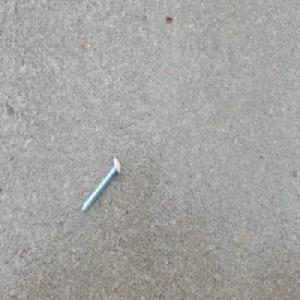Nail: (79, 156, 122, 215)
